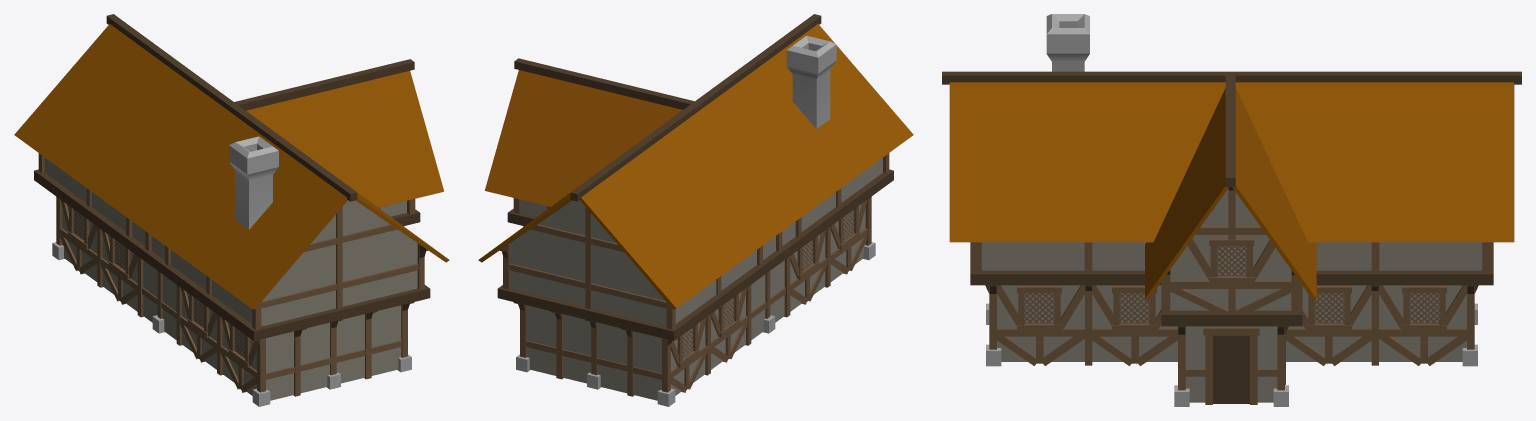
File: M_Taverne.fbx
3 views of the same model, side by side, from view 1: azimuth 30°, elevation 25°; view 2: azimuth 150°, elevation 25°; view 3: azimuth 270°, elevation 25° (orthographic). The views are drawn at different scales.
Parts seen in each view (by area): view 1: Toit_1, pCube182, Toit_2, pPlane9, pCube184, pCube180, Poutre_toit, pCube192, pPlane6, Poutre_toit_1, pCube87, pCube191 (+2 smaller); view 2: Toit_1, pCube182, Toit_2, pPlane9, pCube184, pCube180, pCube192, Poutre_toit, pPlane6, Poutre_toit_1, pCube87, pCube191 (+2 smaller); view 3: Toit_1, pCube180, Toit_2, pCube184, Poutre_toit, pCube5, pPlane10, pPlane3, polySurface1, pCube187, pCube189, Door_low (+9 smaller).
Part boxes in pixels (bbox=[...]): Toit_1: bbox=[14, 24, 449, 309]; pCube182: bbox=[52, 197, 330, 406]; Toit_2: bbox=[246, 71, 444, 207]; pPlane9: bbox=[261, 200, 417, 326]; pCube184: bbox=[34, 169, 430, 340]; pCube180: bbox=[330, 305, 411, 383]; Poutre_toit: bbox=[106, 14, 357, 201]; pCube192: bbox=[229, 136, 278, 229]; pPlane6: bbox=[44, 157, 252, 323]; Poutre_toit_1: bbox=[234, 59, 414, 110]; pCube87: bbox=[261, 263, 418, 308]; pCube191: bbox=[73, 209, 245, 357]; Toit_1: bbox=[478, 24, 913, 309]; pCube182: bbox=[597, 197, 875, 406]; Toit_2: bbox=[485, 70, 682, 206]; pPlane9: bbox=[510, 200, 666, 326]; pCube184: bbox=[497, 169, 893, 340]; pCube180: bbox=[516, 305, 601, 389]; pCube192: bbox=[786, 35, 836, 128]; Poutre_toit: bbox=[570, 14, 821, 201]; pPlane6: bbox=[675, 158, 882, 323]; Poutre_toit_1: bbox=[514, 58, 694, 109]; pCube87: bbox=[509, 263, 666, 308]; pCube191: bbox=[682, 209, 854, 357]; Toit_1: bbox=[949, 82, 1514, 242]; pCube180: bbox=[986, 285, 1477, 384]; Toit_2: bbox=[1145, 87, 1316, 300]; pCube184: bbox=[970, 242, 1493, 326]; Poutre_toit: bbox=[942, 71, 1521, 84]; pCube5: bbox=[1170, 189, 1291, 310]; pPlane10: bbox=[1315, 242, 1482, 270]; pPlane3: bbox=[981, 242, 1145, 270]; polySurface1: bbox=[1185, 326, 1277, 402]; pCube187: bbox=[1170, 238, 1291, 311]; pCube189: bbox=[1024, 293, 1439, 323]; Door_low: bbox=[1213, 335, 1249, 403].
Size of the model in its own units: 10.02 by 7.95 by 15.15.
